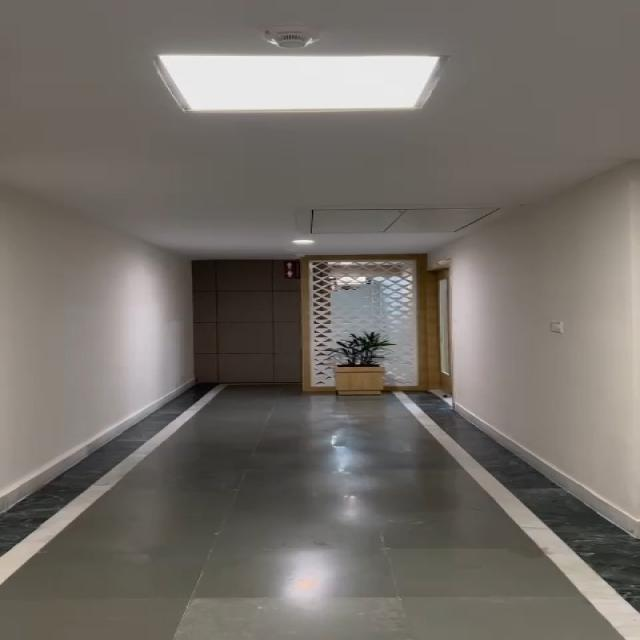floor: (167, 400, 443, 640)
furniture: (328, 330, 411, 404)
wall: (0, 186, 185, 403), (458, 219, 640, 424)
